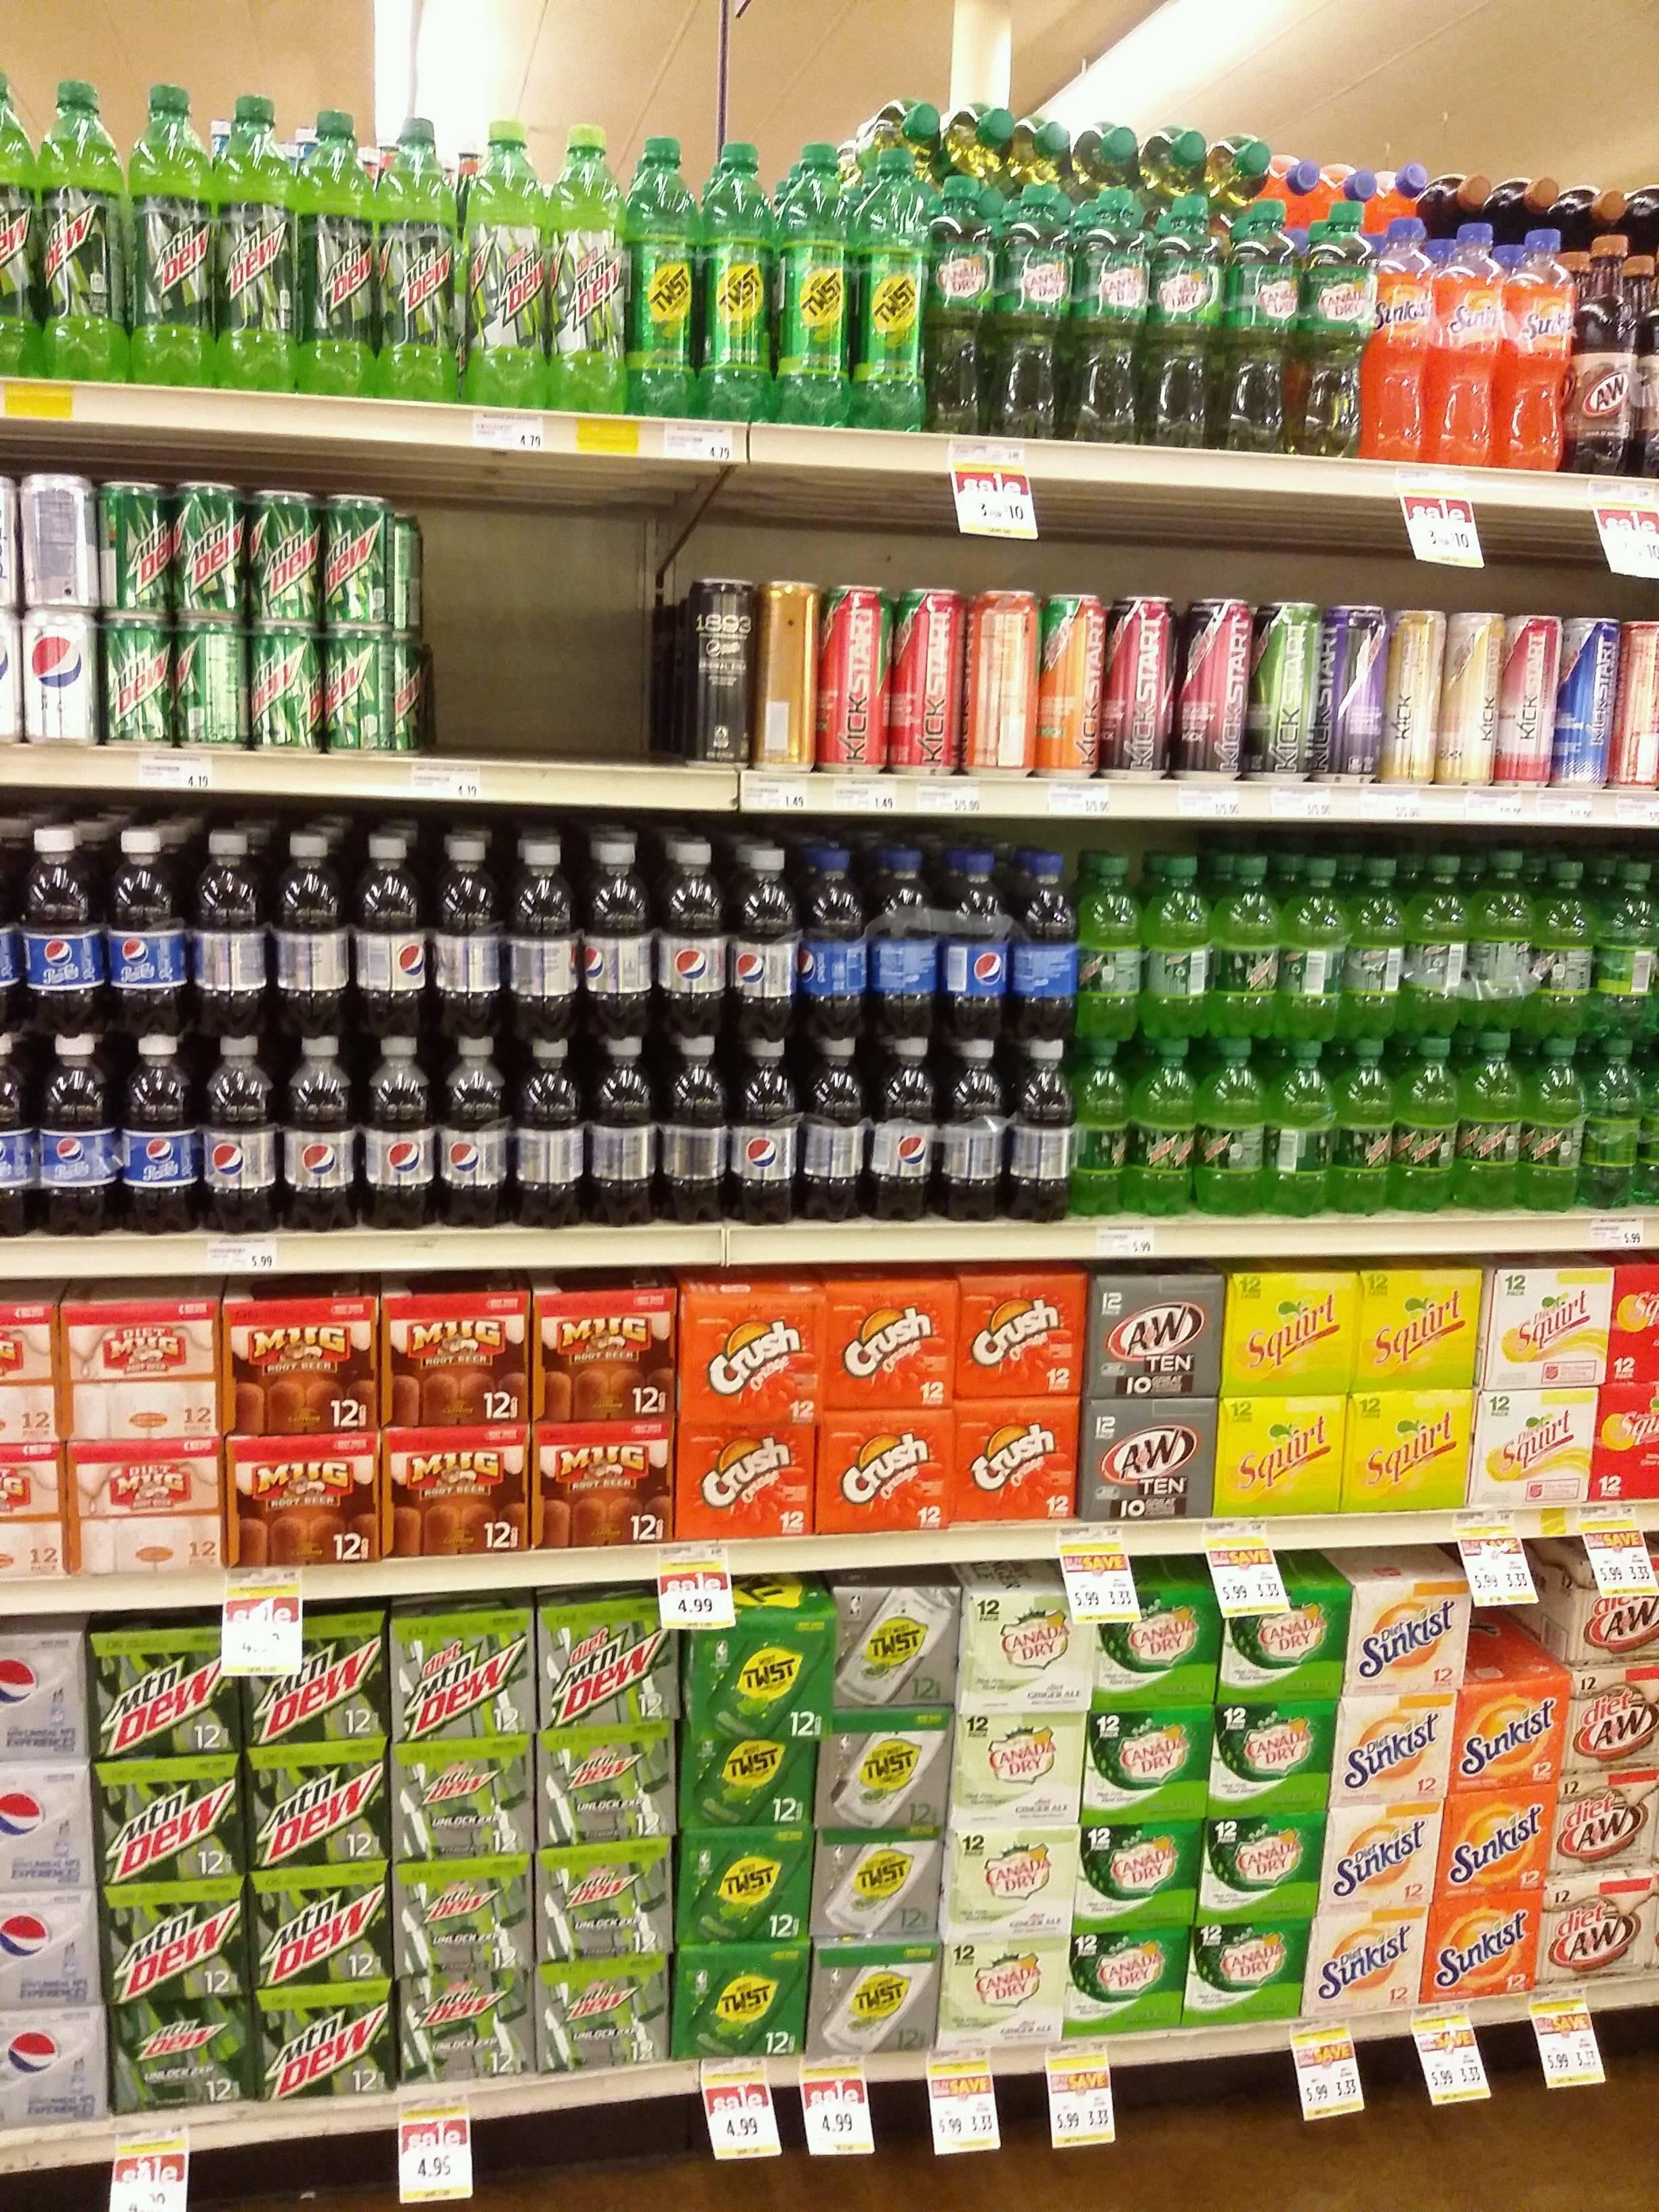empty: (420, 514, 671, 758)
